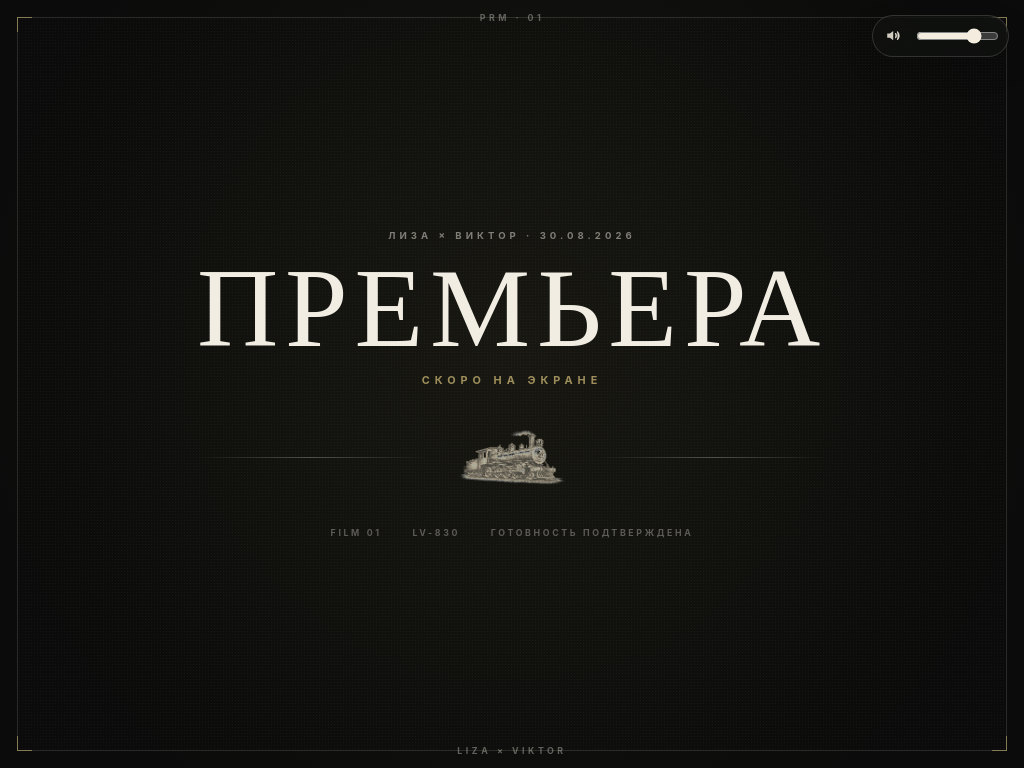
Test case: ScreenPage premiere protection › auto-arms normal and premiere audio together and lets the operator mute the screen
Click the button named "Выключить звук". click: (893, 36)
box: 879,22 -> 907,50
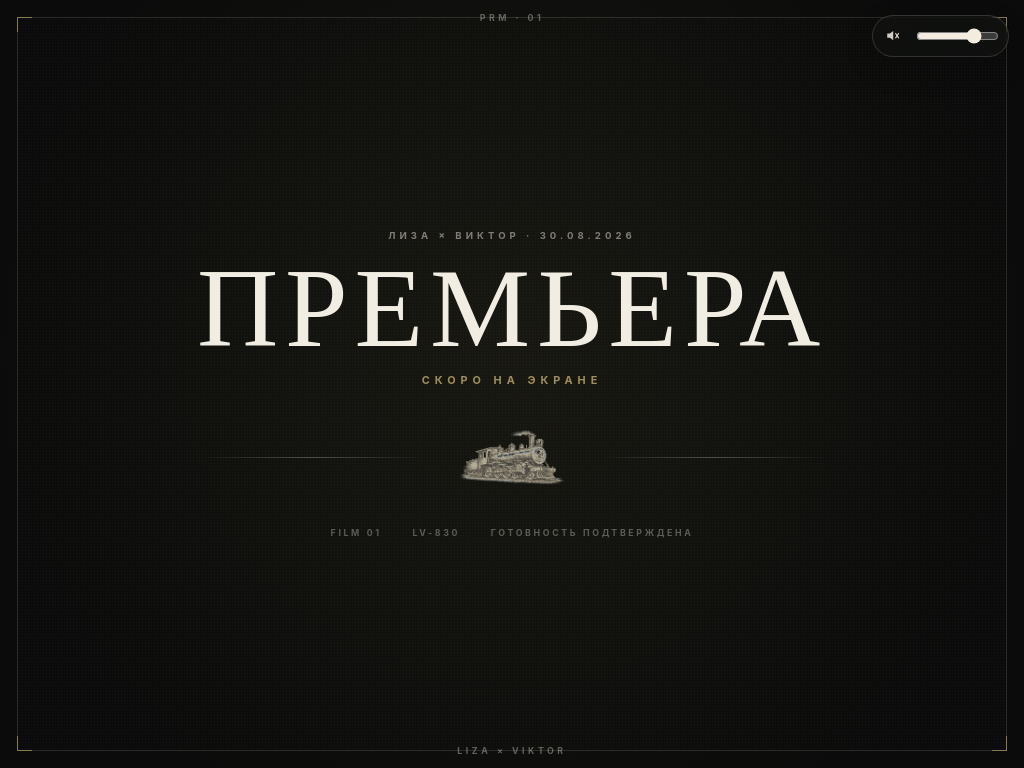
Expected: the button named "Включить звук" is shown, 879,22 -> 907,50
